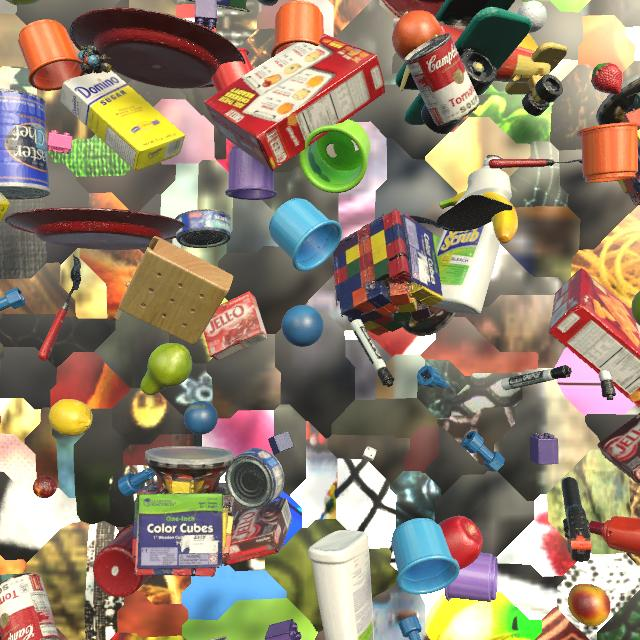ycb_002_master_chef_can: (0, 89, 50, 200)
ycb_003_cracker_box: (204, 33, 385, 171), (549, 268, 640, 408)
ycb_004_sugar_box: (60, 70, 185, 172), (0, 192, 10, 223)
ycb_005_tomato_soup_can: (404, 33, 480, 126), (0, 573, 59, 640), (209, 636, 227, 640)
ycb_007_tuna_fish_can: (225, 448, 285, 509), (175, 209, 231, 248)
ycb_008_pudding_box: (222, 498, 292, 566), (597, 413, 640, 485)
ycb_009_gelatin_box: (204, 291, 268, 360)
ycb_011_banana: (439, 191, 518, 243)
ycb_012_strawberry: (591, 62, 623, 95)
ycb_013_apple: (438, 516, 483, 569)
ycb_014_lemon: (49, 399, 93, 436)
ycb_015_peach: (568, 584, 611, 626)
ycb_016_pear: (140, 343, 192, 395), (631, 291, 640, 325)
ycb_017_orange: (392, 10, 442, 61), (0, 415, 1, 424)
